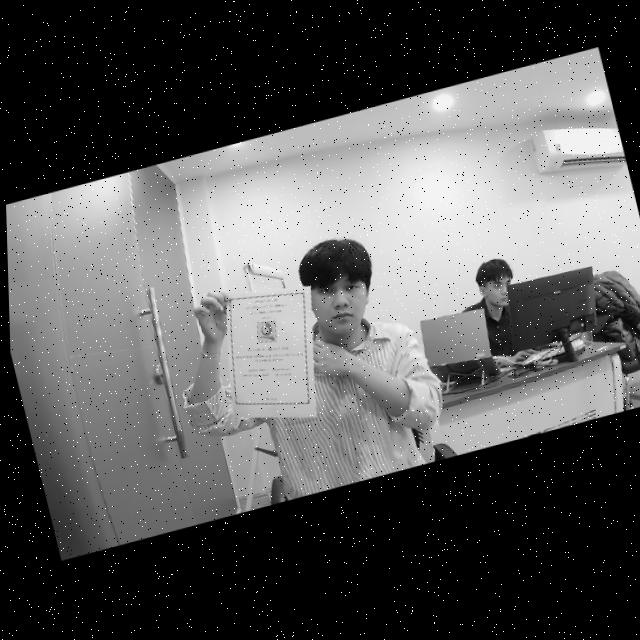document: (226, 286, 316, 417)
face: (305, 264, 374, 341), (480, 267, 516, 309)
